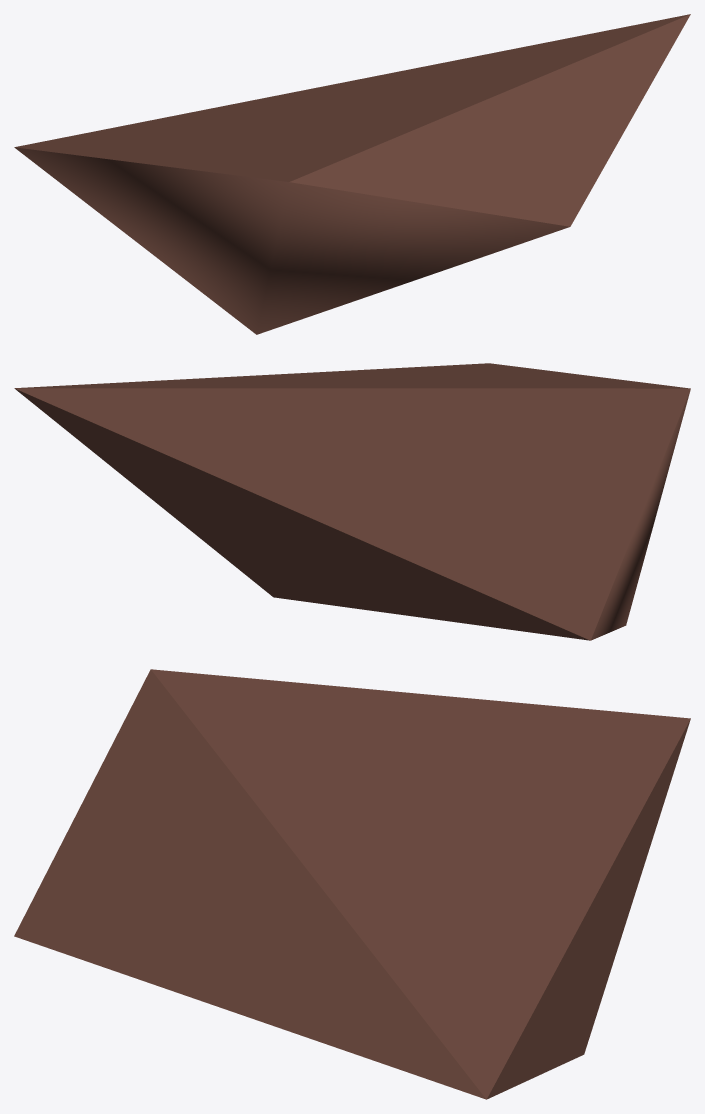
File: p_mesh_hvs_rock_medium01_destruction_part05_col.fbx
3 renders of one model, top to bottom at view 1: azimuth 30°, elevation 25°; view 2: azimuth 150°, elevation 25°; view 3: azimuth 270°, elevation 25°, orthographic. The views are drawn at different scales.
Parts seen in each view (by area): view 1: p_medium_destruction_part05_col; view 2: p_medium_destruction_part05_col; view 3: p_medium_destruction_part05_col.
Part boxes in pixels (<box>): p_medium_destruction_part05_col: <box>14,14,690,334</box>; p_medium_destruction_part05_col: <box>14,363,690,640</box>; p_medium_destruction_part05_col: <box>14,669,690,1099</box>.
Bounding box in the file's own units: 8.97 × 2.69 × 5.91.
